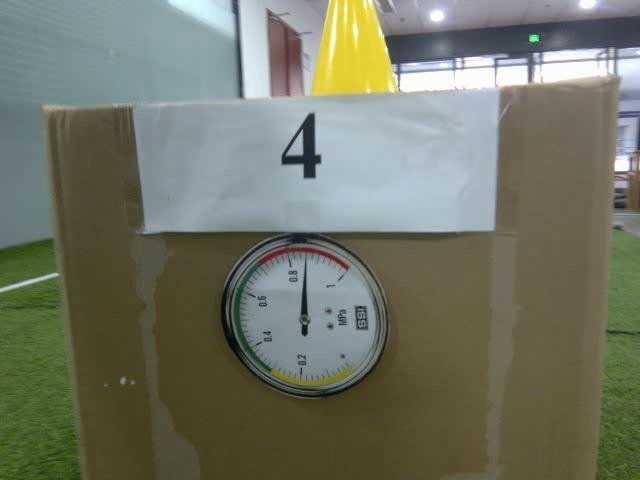4: (280, 112, 322, 180)
Dashboard: (220, 233, 388, 399)
ssi: (352, 304, 370, 333)
yellow_barrel: (313, 0, 396, 98)
